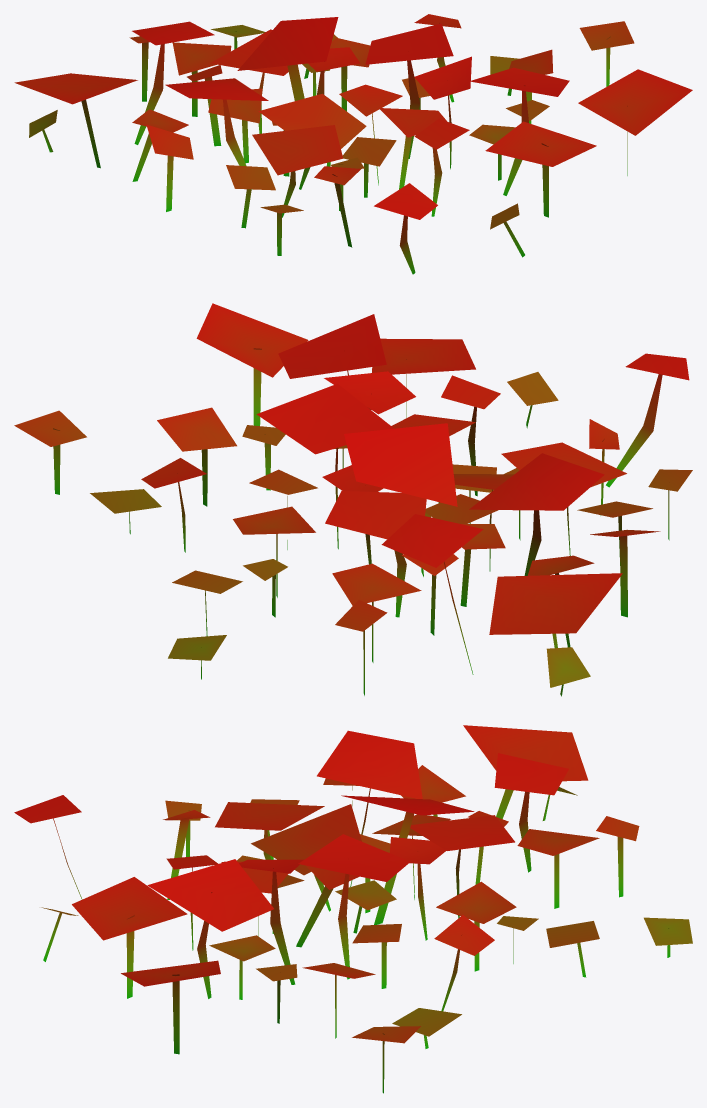
The model's file is Var4_LOD2.fbx.
The picture shows the model from 3 angles, top to bottom: view 1: azimuth 30°, elevation 25°; view 2: azimuth 150°, elevation 25°; view 3: azimuth 270°, elevation 25°; orthographic projection. The views are drawn at different scales.
Visible parts, largest first — view 1: _d085_Var4_LOD2; view 2: _d085_Var4_LOD2; view 3: _d085_Var4_LOD2.
Boxes of the visible parts, bbox=[...] form: _d085_Var4_LOD2: bbox=[14, 14, 692, 274]; _d085_Var4_LOD2: bbox=[14, 303, 692, 696]; _d085_Var4_LOD2: bbox=[14, 725, 692, 1093].
Size of the model in its own units: 51.29 by 12.21 by 50.01.
